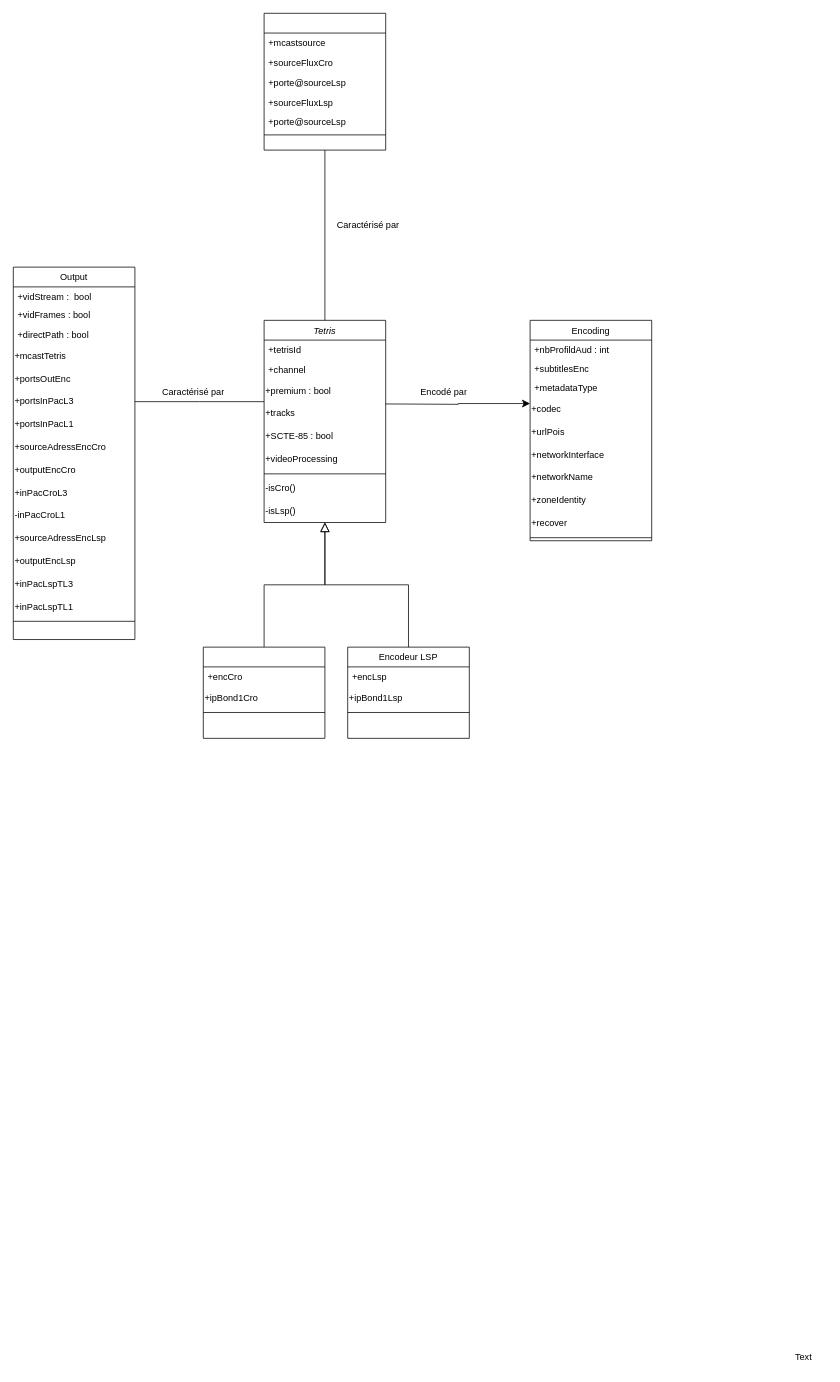
Image size: 840x1382. Some labels were removed from this diagram. The box of each missing label's shape, as (x1, y1, x2, y2) in pixels:
Encodeur CRO: (203, 646, 325, 738)
Input: (263, 13, 386, 150)
